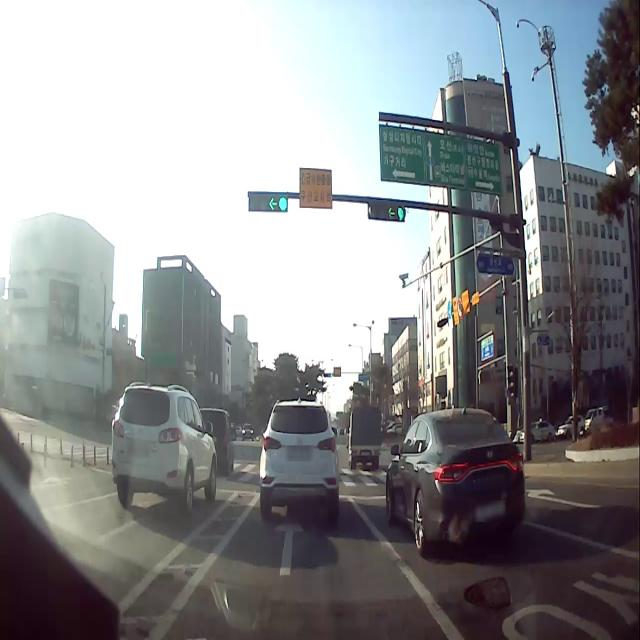Green Light: (279, 194, 288, 212), (397, 205, 405, 221)
